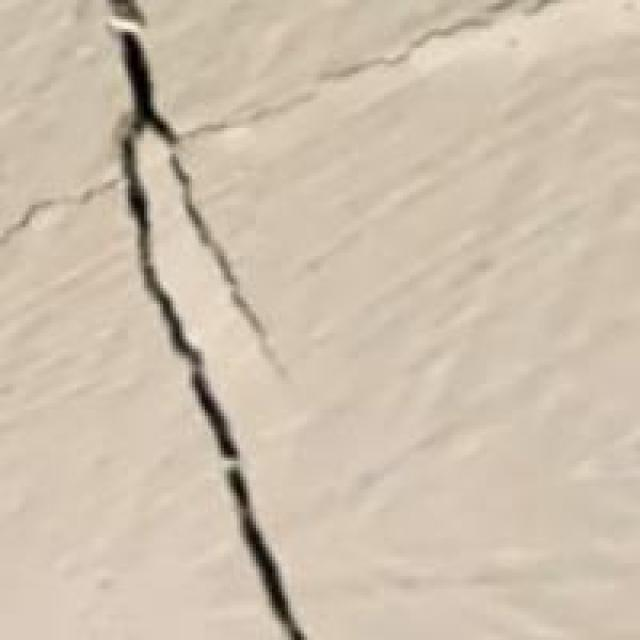Crack: (48, 0, 362, 637)
